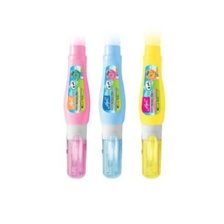correction_fluid: (136, 42, 168, 181), (96, 43, 128, 180), (62, 42, 92, 182)
